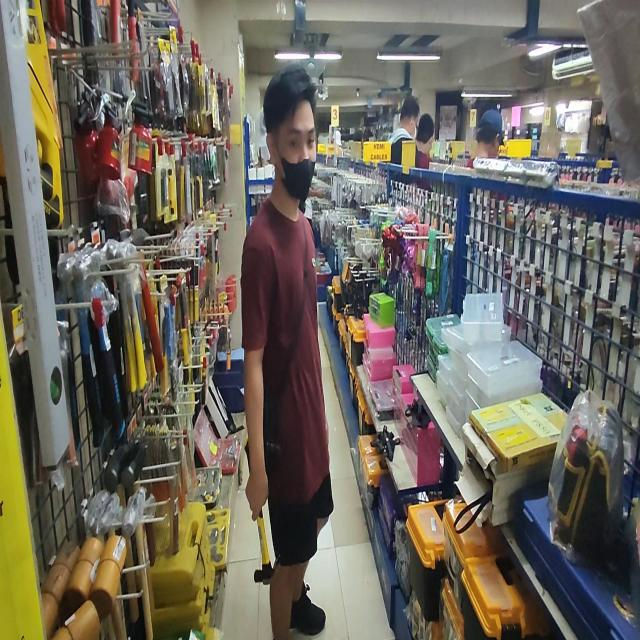hammer: (243, 438, 280, 584)
